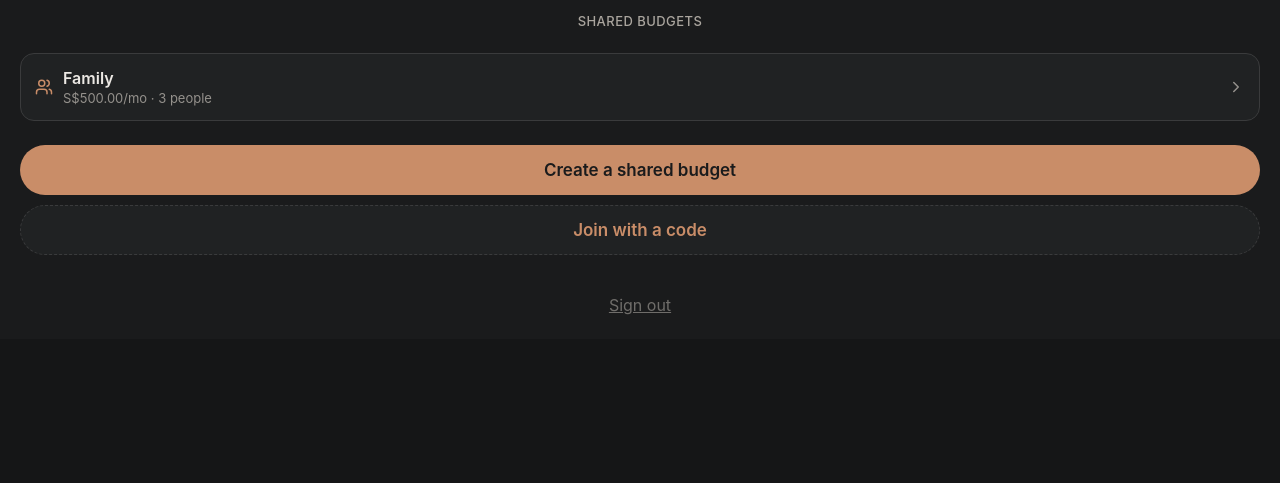
Test: BudgetList › creates a budget from the create subscreen, then offers the invite code
Click the button "Create a shared budget": [640, 170] box [20,145,1260,195]
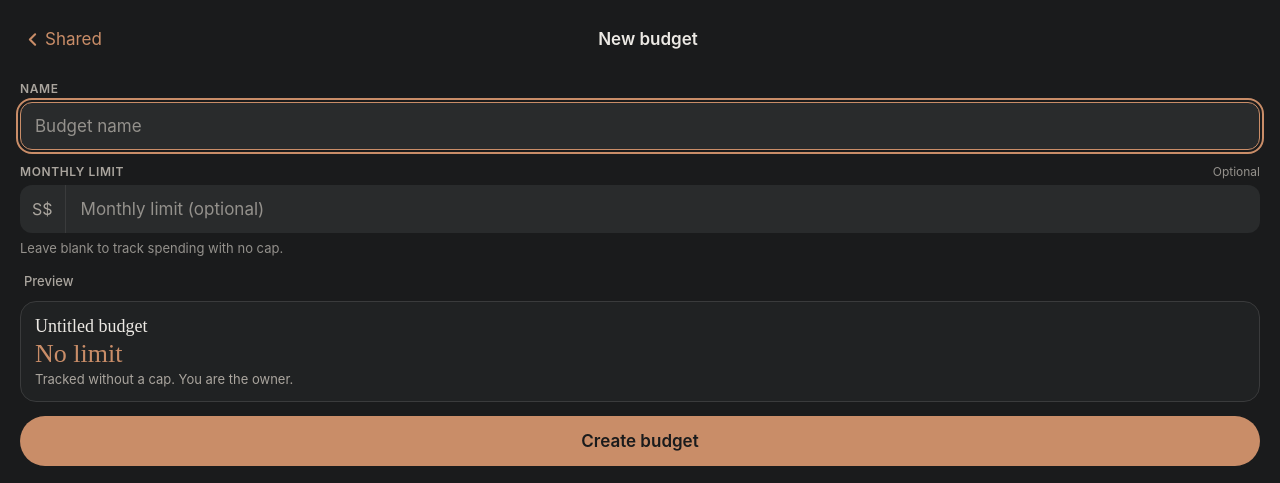
In the field labelled "Name": [640, 126] box [20,102,1260,150], type "Trip"
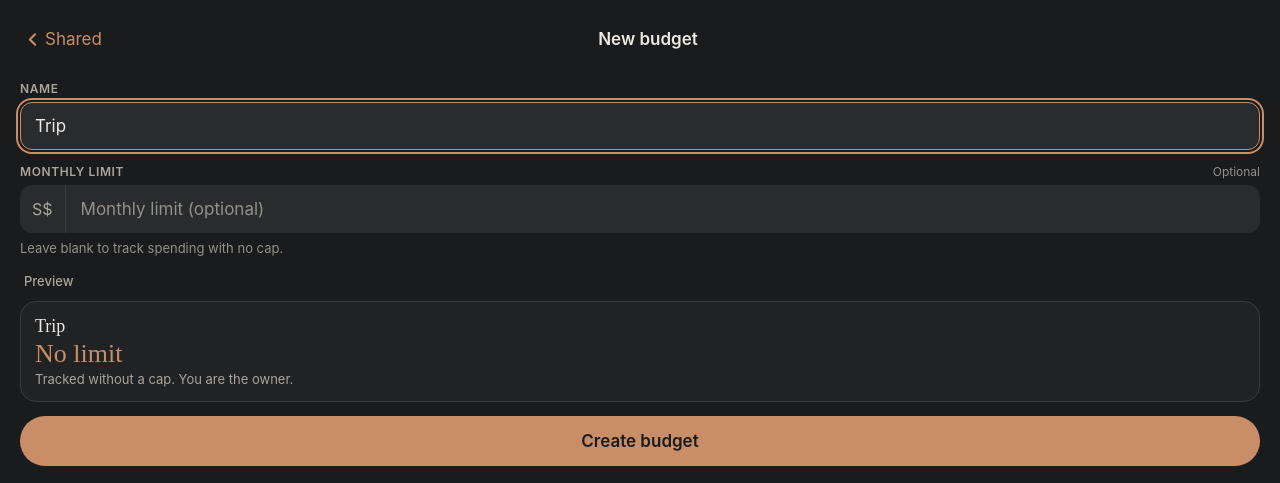
In the number field labelled "Monthly limit Optional": [663, 209] box [66,185,1260,233], type "300"
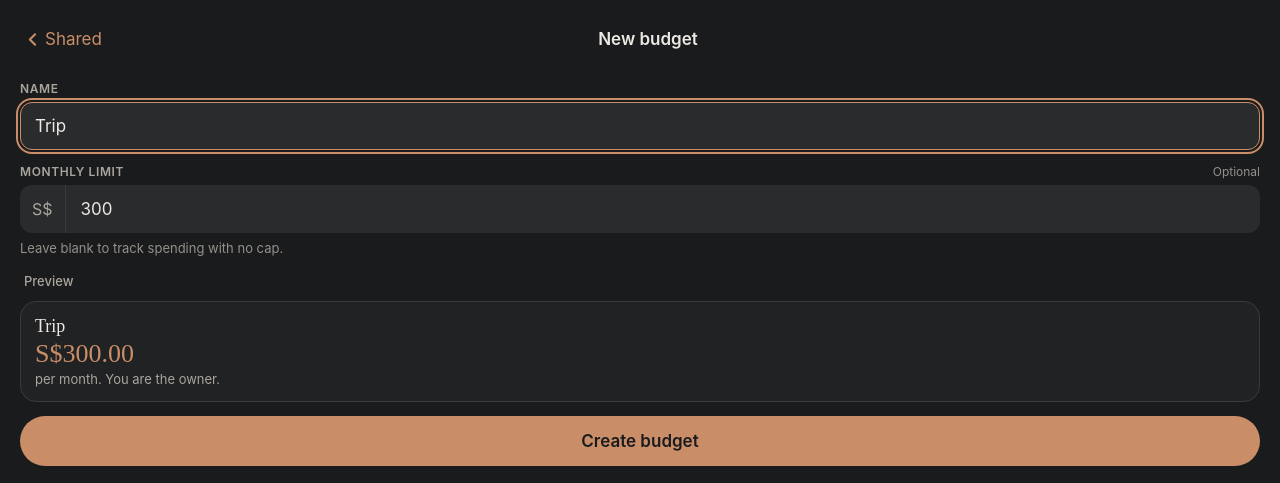
Click the button "Create budget": [640, 441] box [20,416,1260,466]
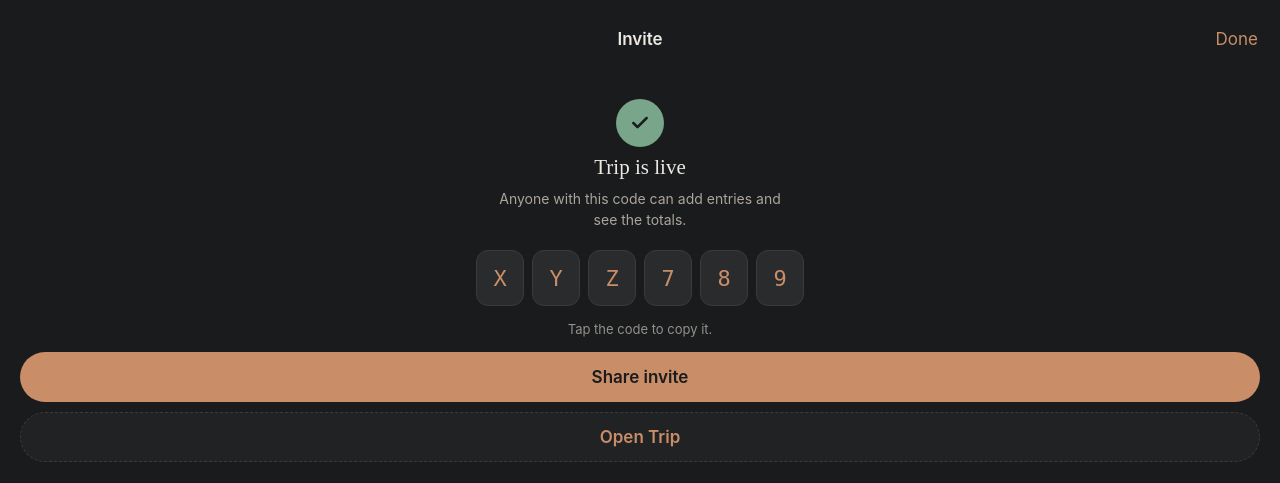
Expected: the heading "Trip is live" is shown, [594,155,686,180]
Expected: the button named "Invite code X Y Z 7 8 9" is shown, [20,250,1260,306]
